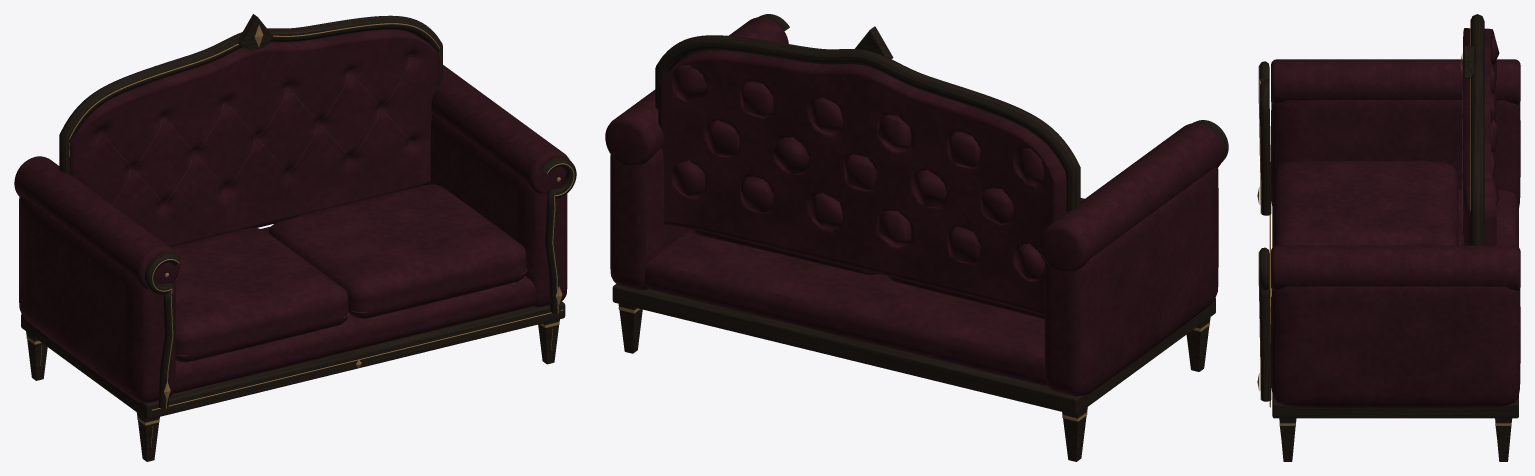
File: gotico_sofa_2_lugares.glb
3 views of the same model, side by side, from view 1: azimuth 30°, elevation 25°; view 2: azimuth 150°, elevation 25°; view 3: azimuth 270°, elevation 25° (orthographic). The views are drawn at different scales.
Parts seen in each view (by area): view 1: sofa_2_lugares; view 2: sofa_2_lugares; view 3: sofa_2_lugares.
Boxes of the visible parts, <box> form: sofa_2_lugares: <box>14,14,576,461</box>; sofa_2_lugares: <box>605,14,1228,461</box>; sofa_2_lugares: <box>1257,14,1520,461</box>.
Size of the model in its own units: 1.59 by 1.14 by 0.854.
Materials: 4 (2 with a texture image).
